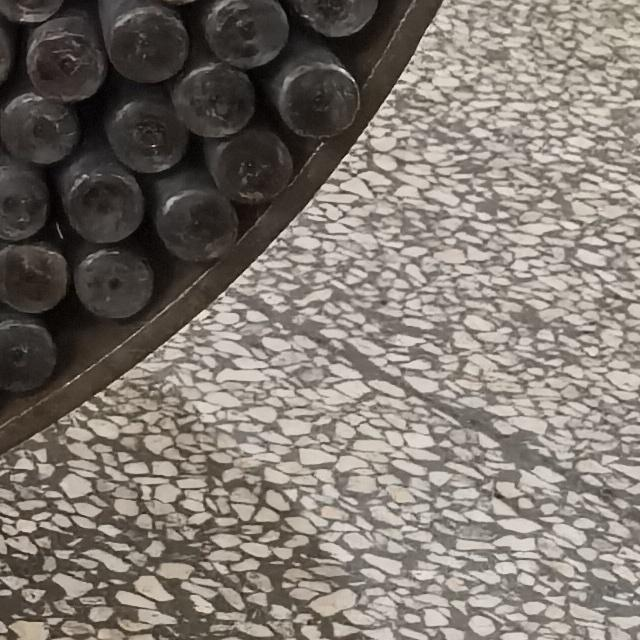tool: (208, 125, 294, 202), (153, 186, 239, 261), (278, 64, 362, 139), (168, 64, 254, 137), (104, 7, 189, 78), (64, 173, 144, 247), (104, 100, 188, 169), (205, 0, 292, 66), (0, 88, 77, 161), (74, 252, 151, 323), (26, 32, 105, 100), (0, 243, 70, 316), (0, 313, 54, 397), (0, 161, 48, 243), (290, 0, 381, 39), (0, 1, 74, 22)
